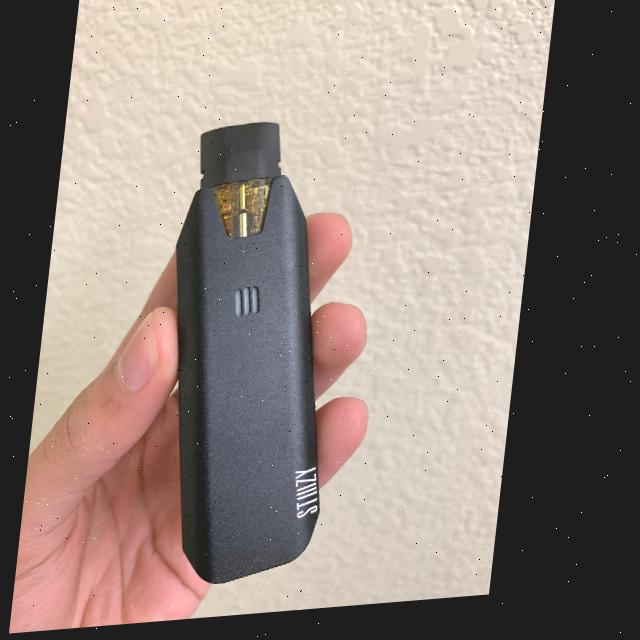vape: (149, 118, 369, 595)
